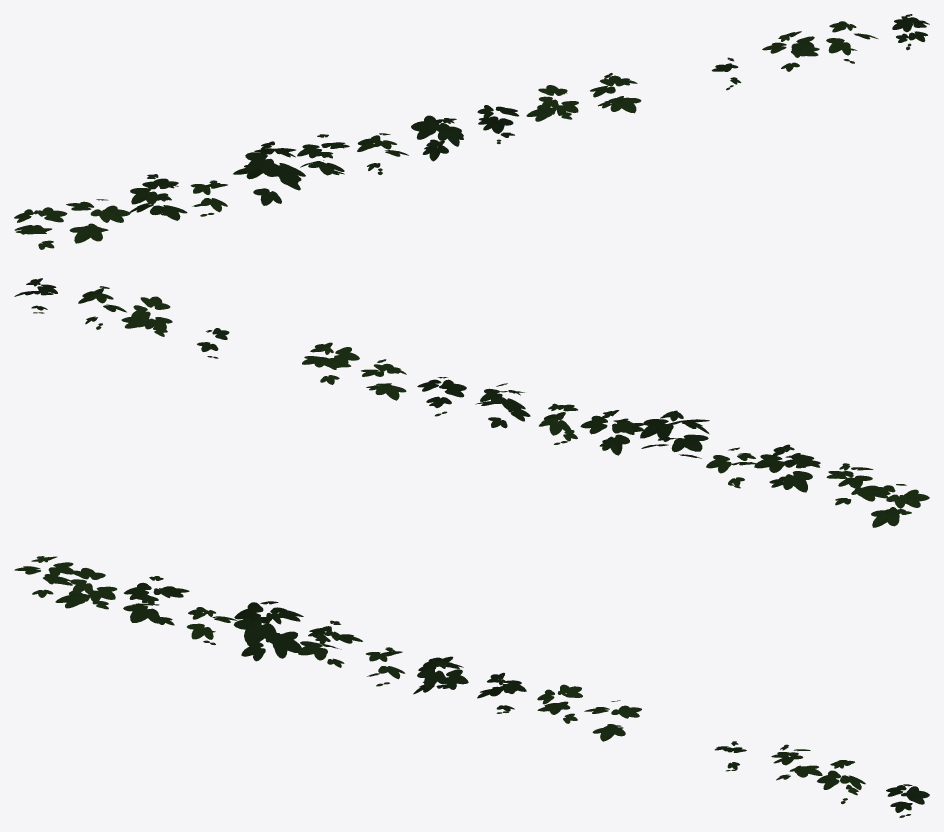
Rendered from ROW_06_SEG1_foliage.dae.
3 views of the same model, one above another, from view 1: azimuth 30°, elevation 25°; view 2: azimuth 150°, elevation 25°; view 3: azimuth 330°, elevation 25° (orthographic).
Visible parts, largest first — view 1: ROW_06_SEG1_foliage; view 2: ROW_06_SEG1_foliage; view 3: ROW_06_SEG1_foliage.
Boxes of the visible parts, x1,y1,x2,y2 form: ROW_06_SEG1_foliage: (14,14,929,249); ROW_06_SEG1_foliage: (14,278,929,527); ROW_06_SEG1_foliage: (14,556,929,817).
Bounding box in the file's own units: 4.77 × 0.3997 × 0.2887.
